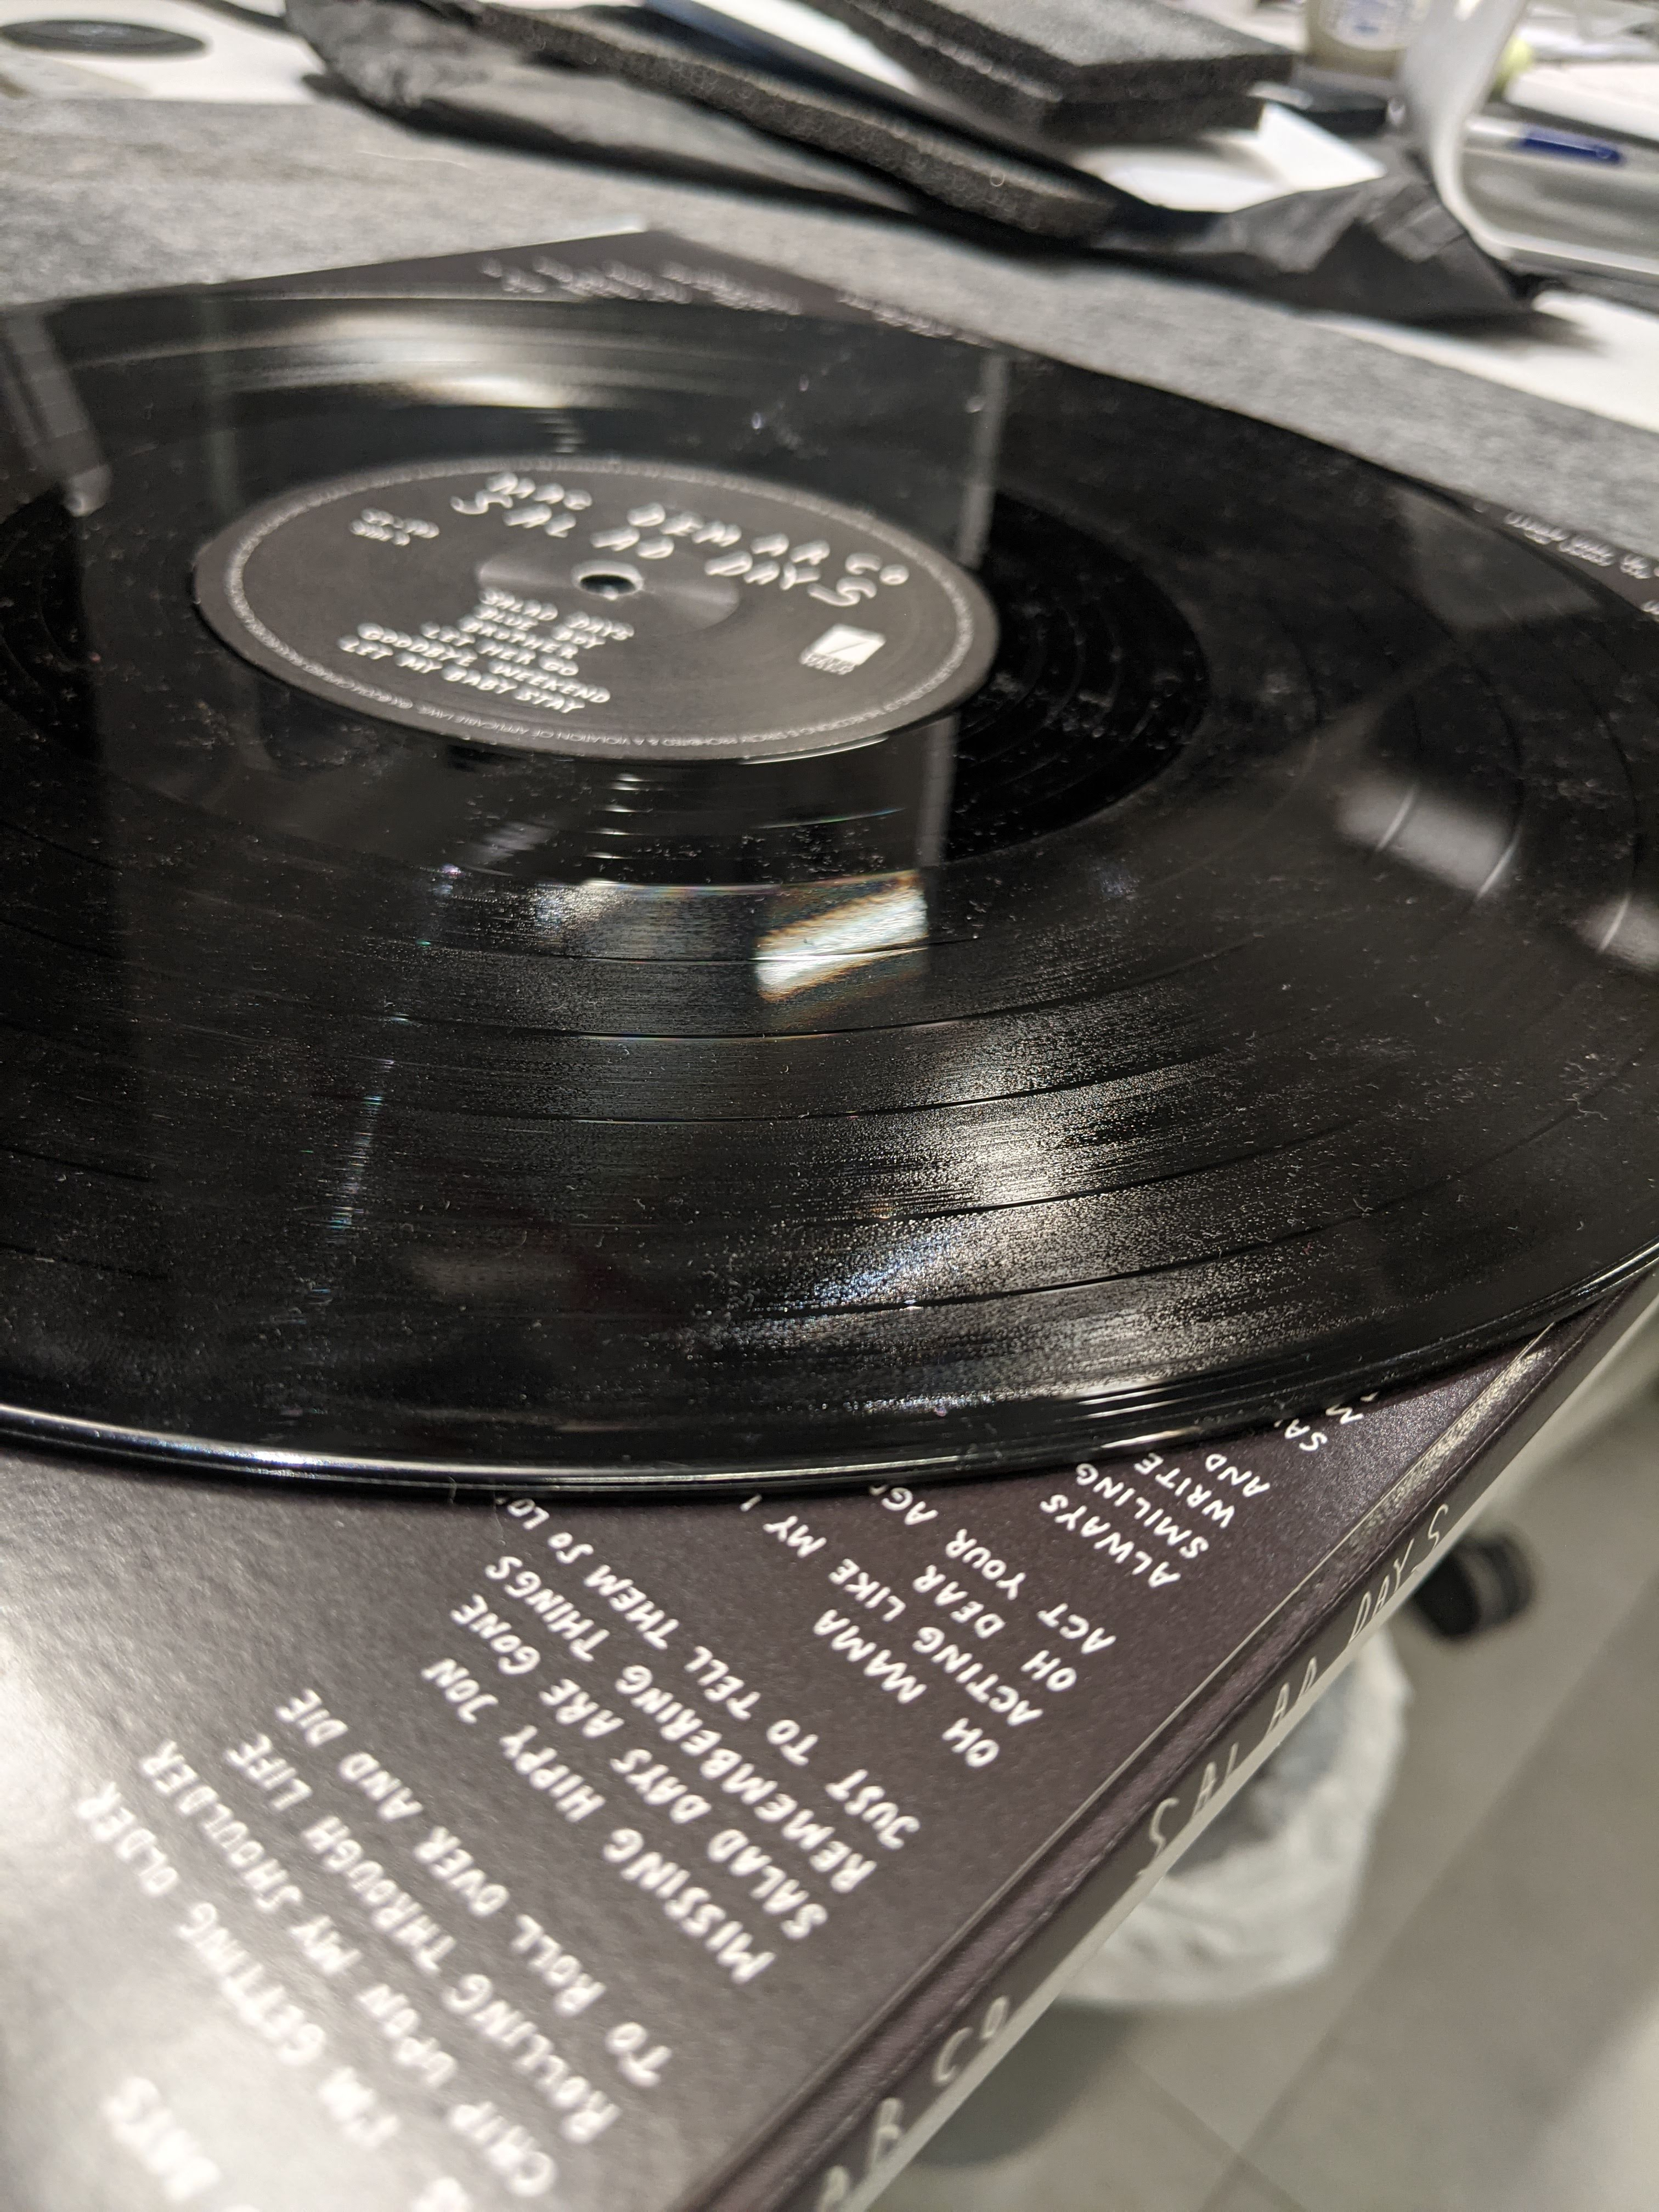song_edge: (936, 1165, 1185, 1240), (884, 1073, 1103, 1144), (882, 1271, 1072, 1343), (742, 1000, 910, 1073), (861, 916, 1046, 972)
